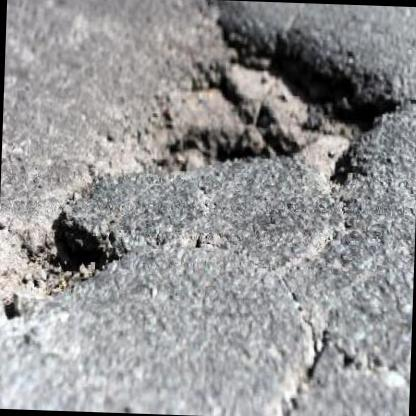pothole: (122, 0, 407, 196), (0, 200, 128, 322)
